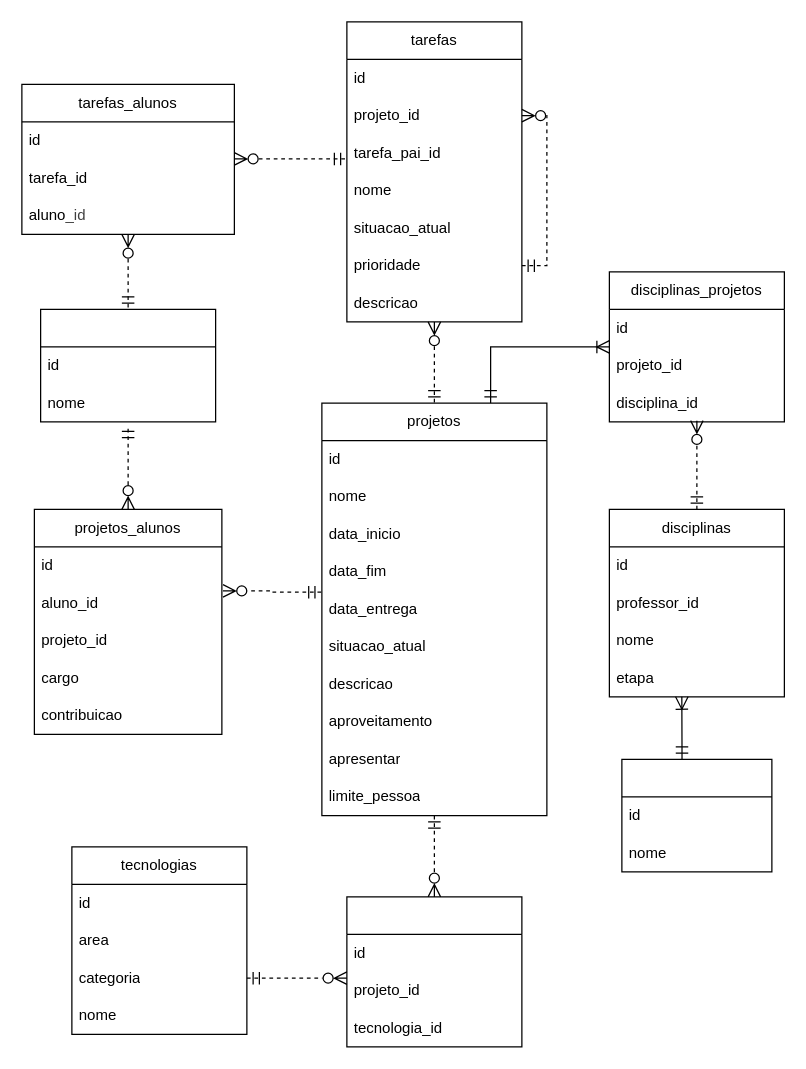
Image size: 806x1069. Some labels were removed from this diagram. The box of each missing label's shape, as (x1, y1, x2, y2) in pixels:
alunos: (39, 308, 216, 422)
professores: (621, 758, 772, 872)
projetos_tecnologias: (346, 896, 522, 1047)
